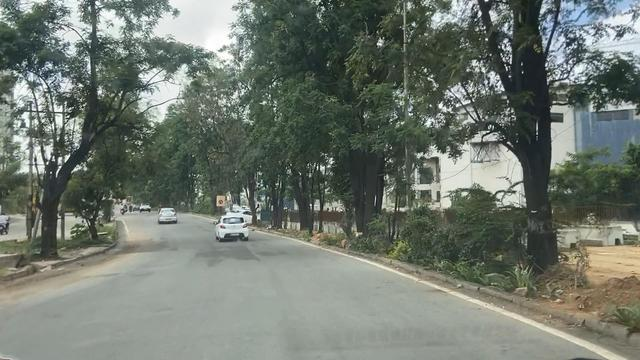LMV: (217, 216, 248, 241), (158, 206, 178, 224), (141, 203, 149, 211)
RoadDamages: (143, 301, 187, 322), (197, 245, 221, 266), (85, 267, 119, 281), (254, 242, 279, 260), (232, 246, 250, 265), (158, 237, 177, 253), (137, 239, 154, 255), (95, 253, 113, 267), (127, 269, 154, 277), (121, 243, 134, 252), (79, 261, 91, 269)
